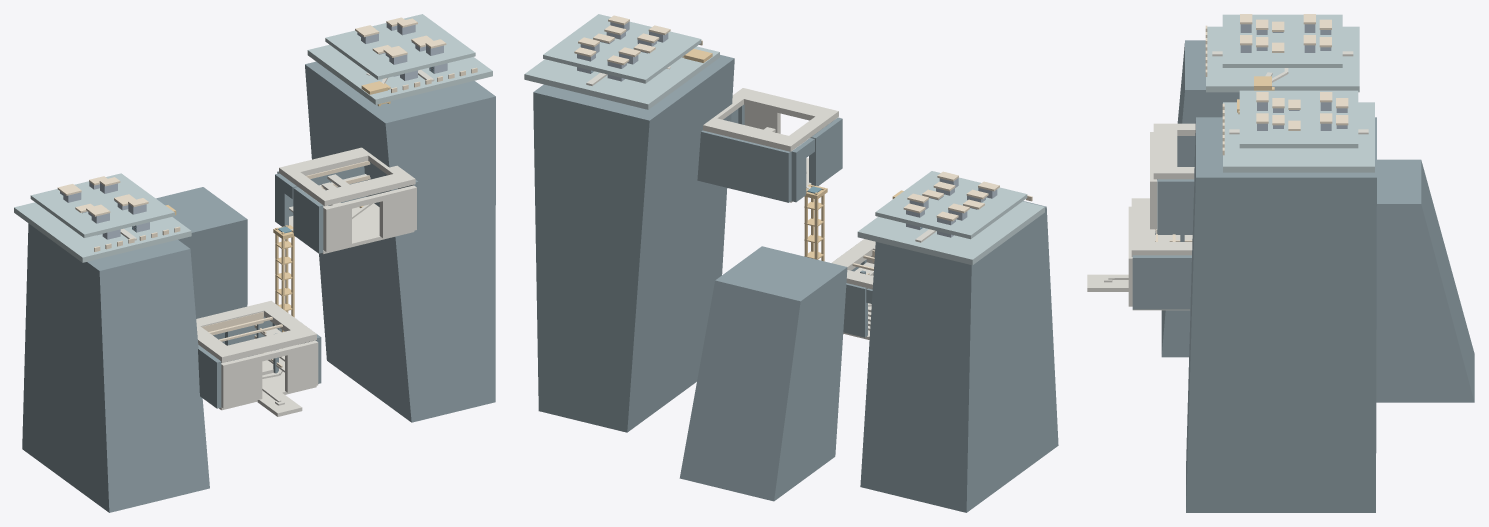
Rendered from M3D1S_J5_LOCAL_REPAIRED.glb.
3 views of the same model, side by side, from view 1: azimuth 30°, elevation 25°; view 2: azimuth 150°, elevation 25°; view 3: azimuth 270°, elevation 25° (orthographic). The views are drawn at different scales.
Visible parts, largest first — view 1: EAST_CITY_MASS, WEST_CITY_MASS, NORTH_DIAGONAL_CITY_SUPPORT, EAST_LIVING_TERRACE_LEVEL_2, WEST_LIVING_TERRACE_LEVEL_2, WEST_LIVING_TERRACE_MAIN_FLOOR, EAST_LIVING_TERRACE_MAIN_FLOOR, P1_SOUTH_ENTRY_L, P2_SOUTH_ENTRY_R, P1_ROOF_S, P2_WEST_WALL_SOUTH, P1_SOUTH_ENTRY_R (+11 smaller); view 2: EAST_CITY_MASS, WEST_CITY_MASS, NORTH_DIAGONAL_CITY_SUPPORT, P2_NORTH_WALL, EAST_LIVING_TERRACE_LEVEL_2, WEST_LIVING_TERRACE_MAIN_FLOOR, EAST_LIVING_TERRACE_MAIN_FLOOR, WEST_LIVING_TERRACE_LEVEL_2, P2_WEST_WALL_SOUTH, P2_ROOF_S, P2_ROOF_N, P1_NORTH_WALL_EAST (+3 smaller); view 3: EAST_CITY_MASS, NORTH_DIAGONAL_CITY_SUPPORT, EAST_LIVING_TERRACE_LEVEL_2, EAST_LIVING_TERRACE_MAIN_FLOOR, WEST_LIVING_TERRACE_LEVEL_2, WEST_LIVING_TERRACE_MAIN_FLOOR, WEST_CITY_MASS, P1_EAST_WALL_SOUTH, P2_EAST_WALL_SOUTH, P2_ROOF_S, P1_ROOF_S, P1_PUBLIC_APPROACH (+2 smaller).
Part boxes in pixels (x1,y1,x2,y2): EAST_CITY_MASS: (305,61,495,422); WEST_CITY_MASS: (22,223,209,512); NORTH_DIAGONAL_CITY_SUPPORT: (156,187,247,343); EAST_LIVING_TERRACE_LEVEL_2: (325,14,475,79); WEST_LIVING_TERRACE_LEVEL_2: (30,173,174,237); WEST_LIVING_TERRACE_MAIN_FLOOR: (14,202,191,262); EAST_LIVING_TERRACE_MAIN_FLOOR: (307,44,492,104); P1_SOUTH_ENTRY_L: (221,354,262,408); P2_SOUTH_ENTRY_R: (379,185,416,238); P1_ROOF_S: (211,328,316,362); P2_WEST_WALL_SOUTH: (293,187,323,253); P1_SOUTH_ENTRY_R: (285,340,318,392); EAST_CITY_MASS: (533,55,734,432); WEST_CITY_MASS: (860,201,1058,512); NORTH_DIAGONAL_CITY_SUPPORT: (679,246,847,501); P2_NORTH_WALL: (697,130,791,202); EAST_LIVING_TERRACE_LEVEL_2: (543,14,701,83); WEST_LIVING_TERRACE_MAIN_FLOOR: (857,201,1044,265); EAST_LIVING_TERRACE_MAIN_FLOOR: (524,46,719,109); WEST_LIVING_TERRACE_LEVEL_2: (875,171,1027,239); P2_WEST_WALL_SOUTH: (811,117,842,185); P2_ROOF_S: (732,88,838,124); P2_ROOF_N: (703,117,800,151); P1_NORTH_WALL_EAST: (843,283,867,337); EAST_CITY_MASS: (1186,117,1376,512); NORTH_DIAGONAL_CITY_SUPPORT: (1376,159,1474,402); EAST_LIVING_TERRACE_LEVEL_2: (1239,90,1358,148); EAST_LIVING_TERRACE_MAIN_FLOOR: (1223,102,1374,172); WEST_LIVING_TERRACE_LEVEL_2: (1222,14,1342,67); WEST_LIVING_TERRACE_MAIN_FLOOR: (1206,26,1359,92); WEST_CITY_MASS: (1161,40,1239,357); P1_EAST_WALL_SOUTH: (1132,255,1191,309); P2_EAST_WALL_SOUTH: (1157,179,1194,234); P2_ROOF_S: (1153,123,1177,179); P1_ROOF_S: (1131,198,1155,256); P1_PUBLIC_APPROACH: (1087,274,1128,291).
Bounding box in the file's own units: 2990 × 2367 × 2140.
